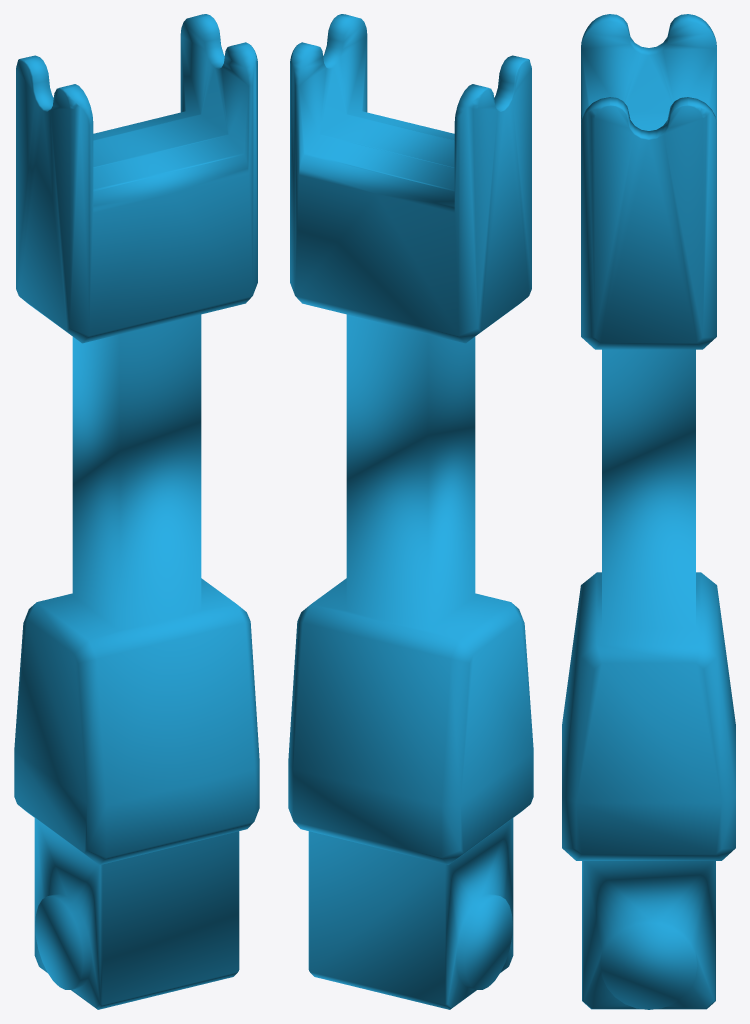
Rendered from wx200_4_forearm.obj.
3 renders of one model, left to right at view 1: azimuth 30°, elevation 25°; view 2: azimuth 150°, elevation 25°; view 3: azimuth 270°, elevation 25°, orthographic.
Bounding box in the file's own units: 46 × 215 × 36.9.
